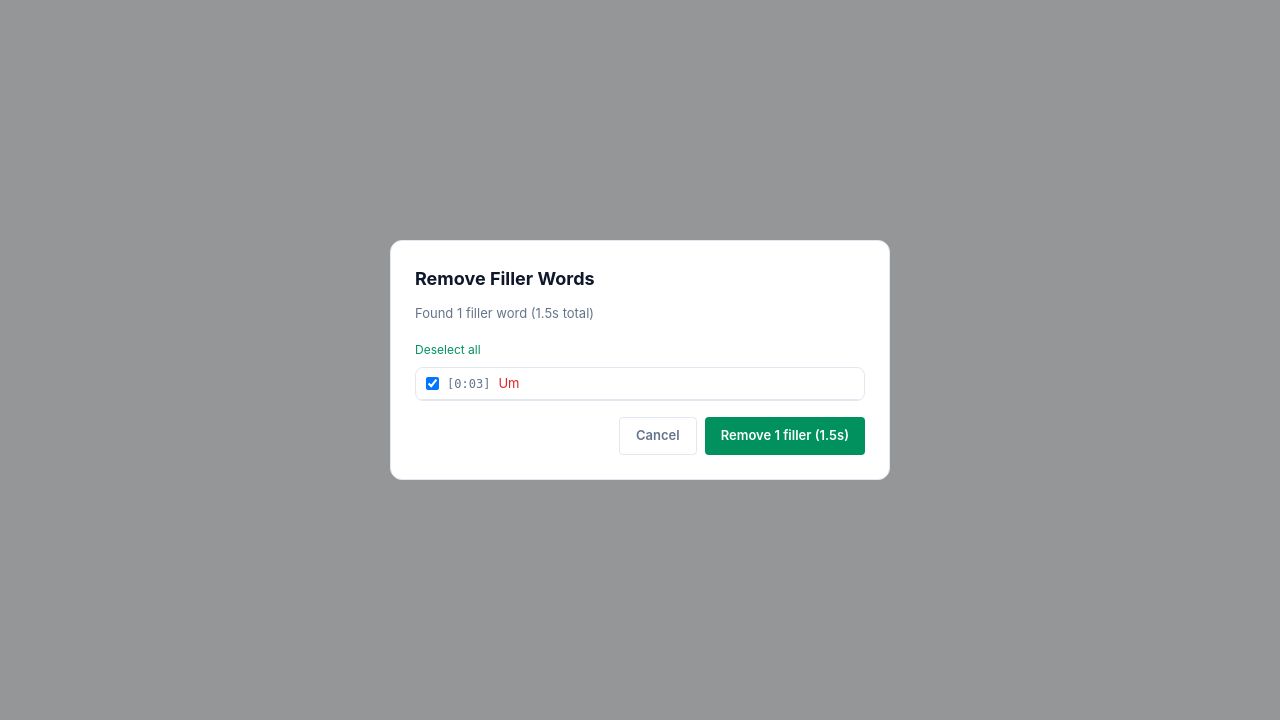
Test: FillerRemovalModal › disables remove button when no fillers are checked
The image size is (1280, 720).
Expected: the text "Found 1 filler word (1.5s total)" is shown, [415,305,594,321]
Note: Uncheck the filler by clicking the checkbox
Step 1. Click the checkbox → (432, 384), box [426,377,439,390]
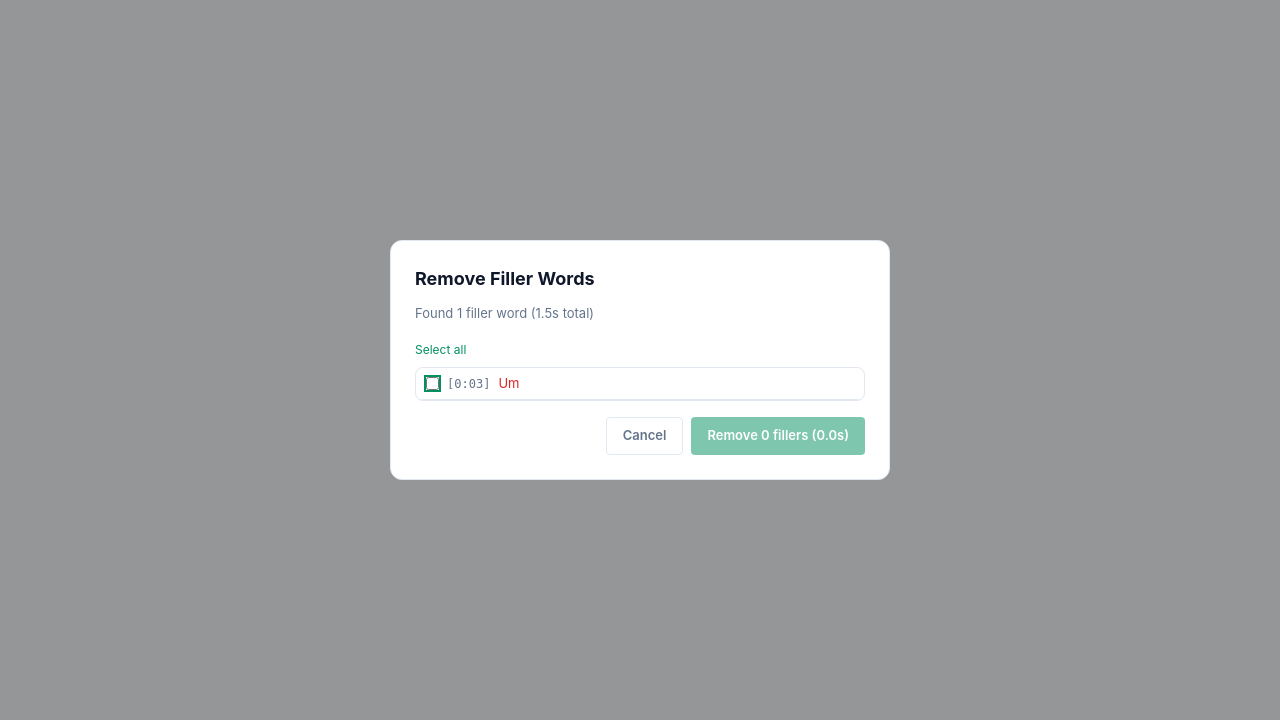
Expected: the button "Remove 0 fillers (0.0s)" is disabled, [691,417,865,455]
